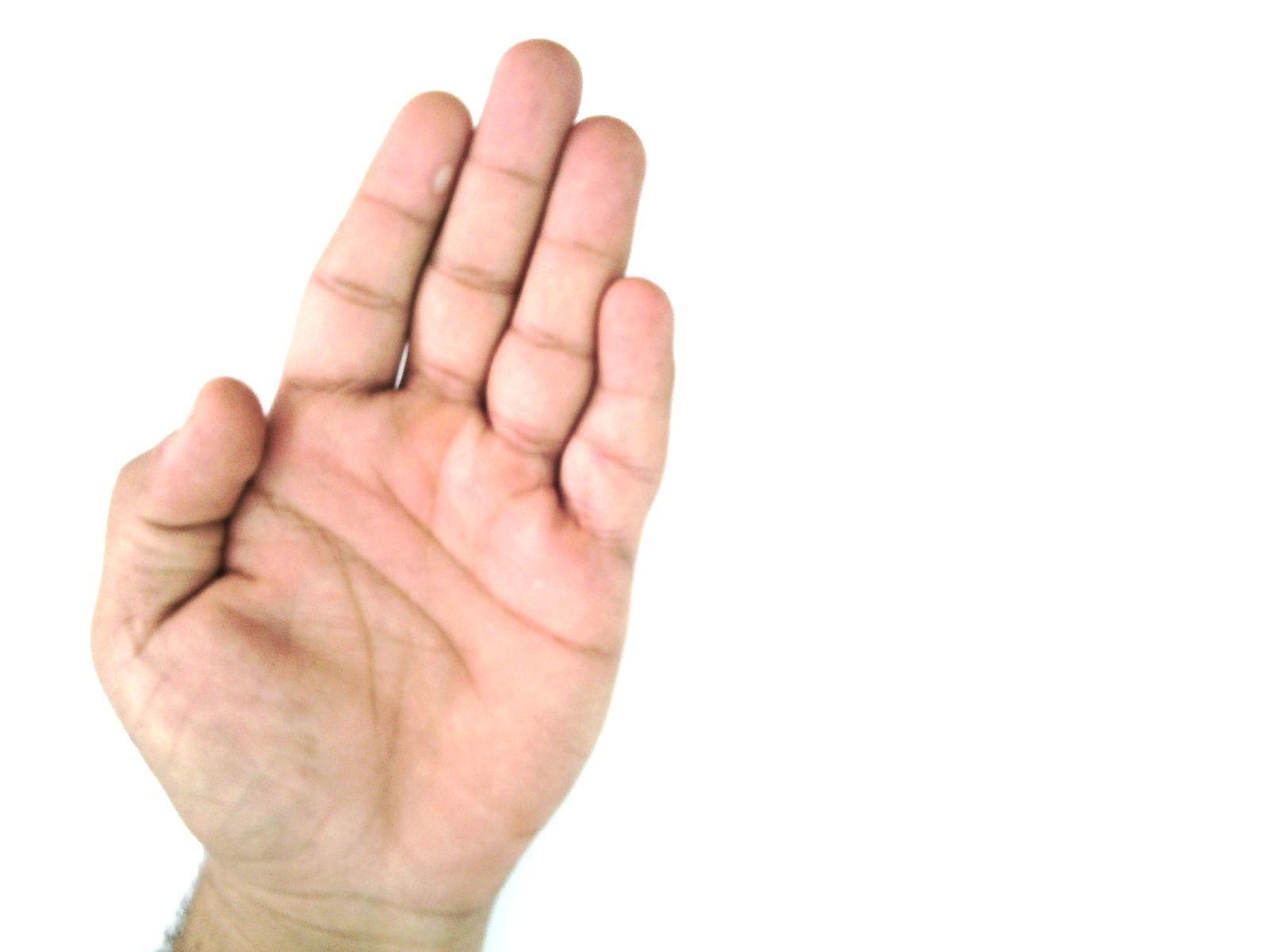open_palm: (88, 37, 680, 933)
